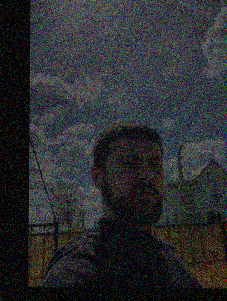without_mask: (112, 148, 166, 227)
